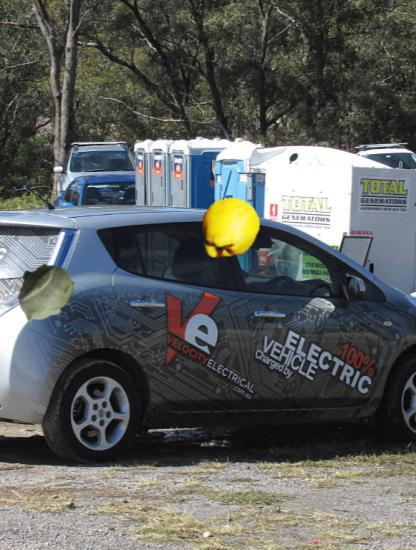Kohlrabi: (11, 260, 76, 325)
Quince: (196, 195, 263, 262)
